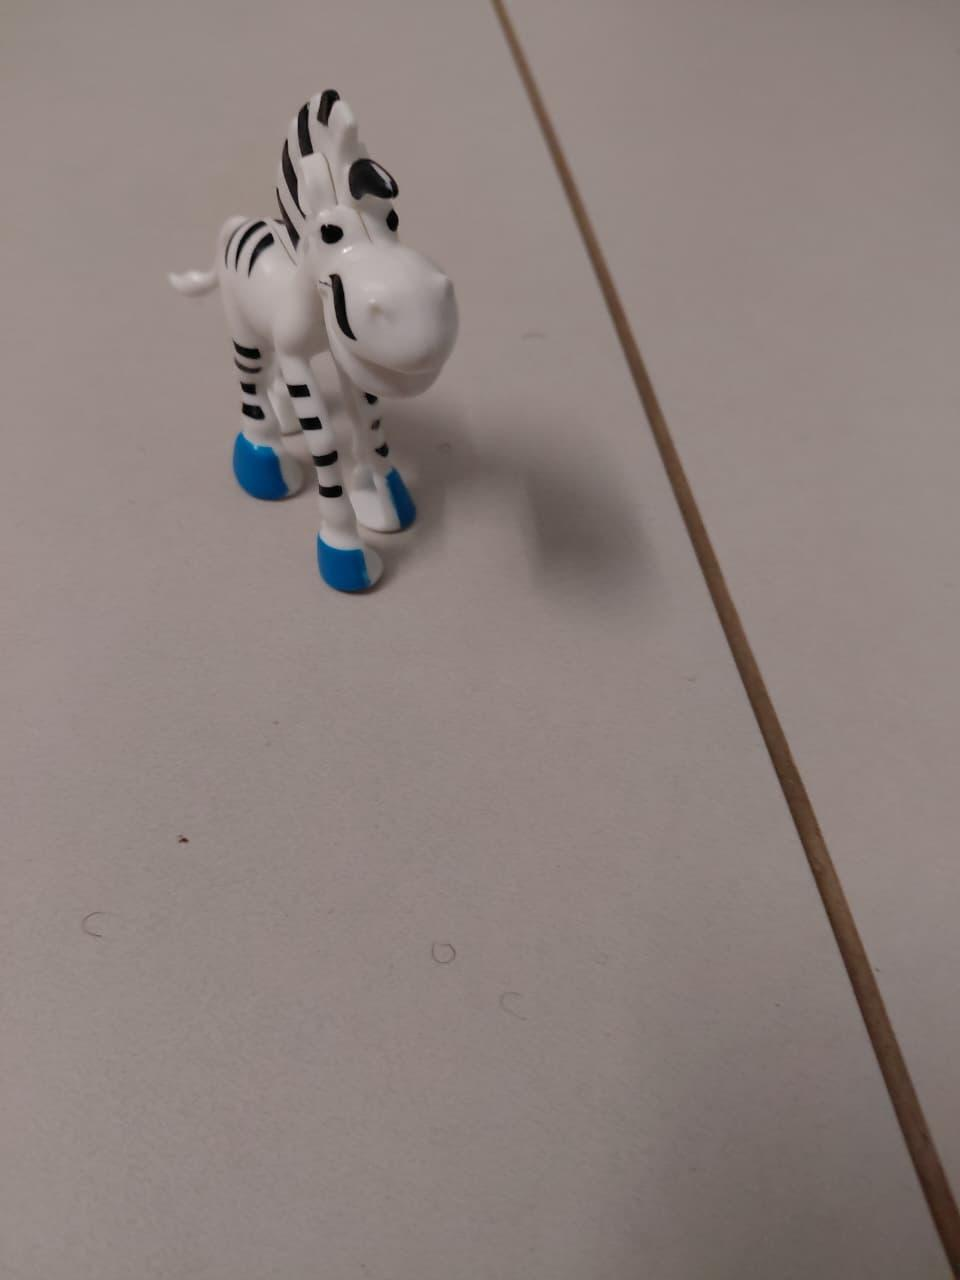zebra: (120, 38, 534, 625)
